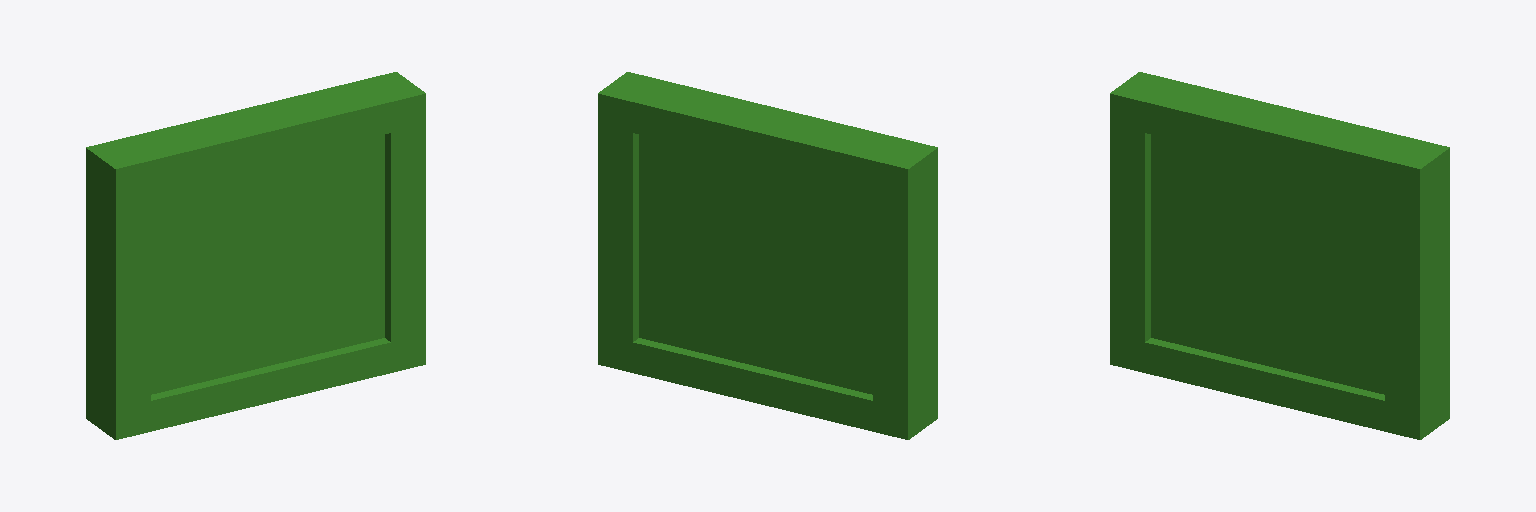
The model's file is Door.obj.
3 views of the same model, side by side, from view 1: azimuth 30°, elevation 25°; view 2: azimuth 150°, elevation 25°; view 3: azimuth 330°, elevation 25° (orthographic).
Visible parts, largest first — view 1: Cube; view 2: Cube; view 3: Cube.
Boxes of the visible parts, box(x1,y1,x2,y2) form: Cube: box(86, 72, 425, 439); Cube: box(598, 72, 937, 439); Cube: box(1110, 72, 1449, 439).
Bounding box in the file's own units: 6 × 5 × 1.